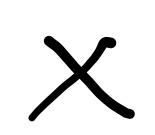mult: (26, 35, 134, 119)
